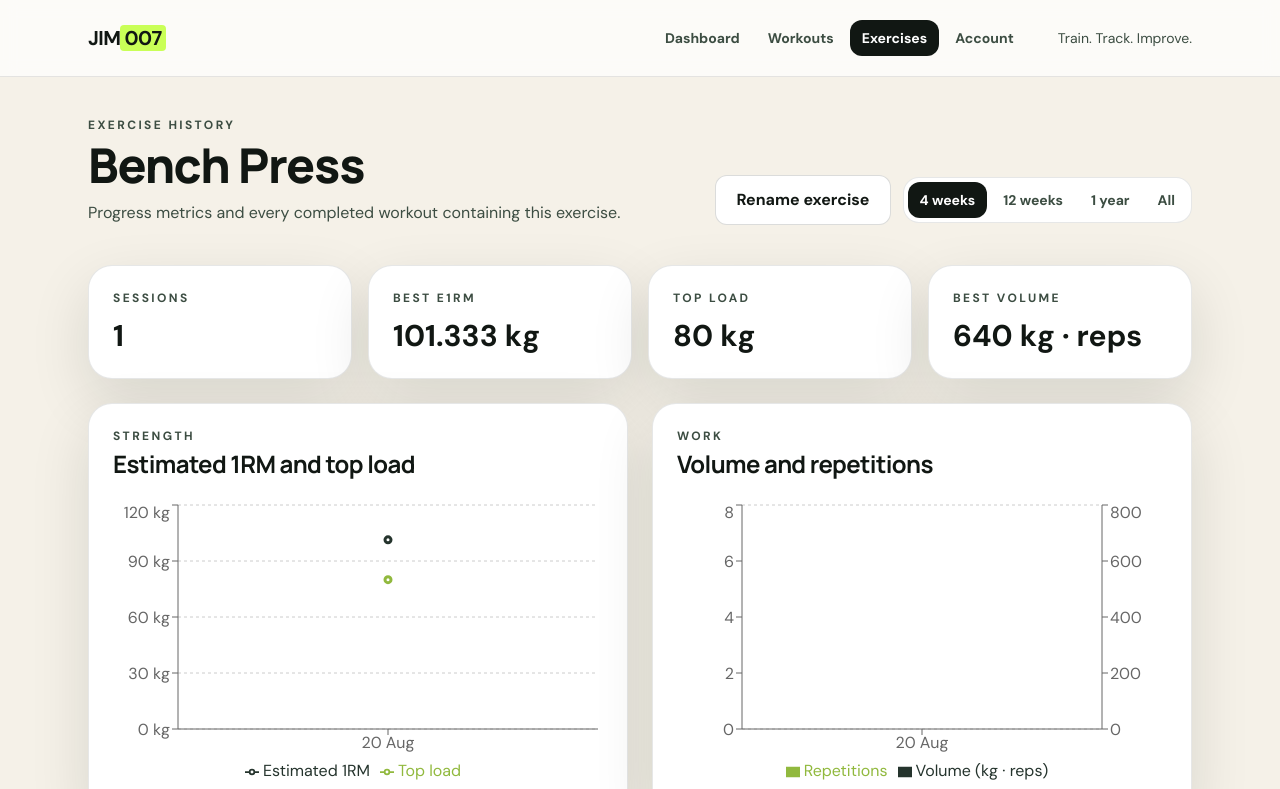
Test case: authentication and optional integrations › keeps the rename form actionable when the new name conflicts
Click the button "Rename exercise" at [803, 200], box [716, 175, 890, 225]
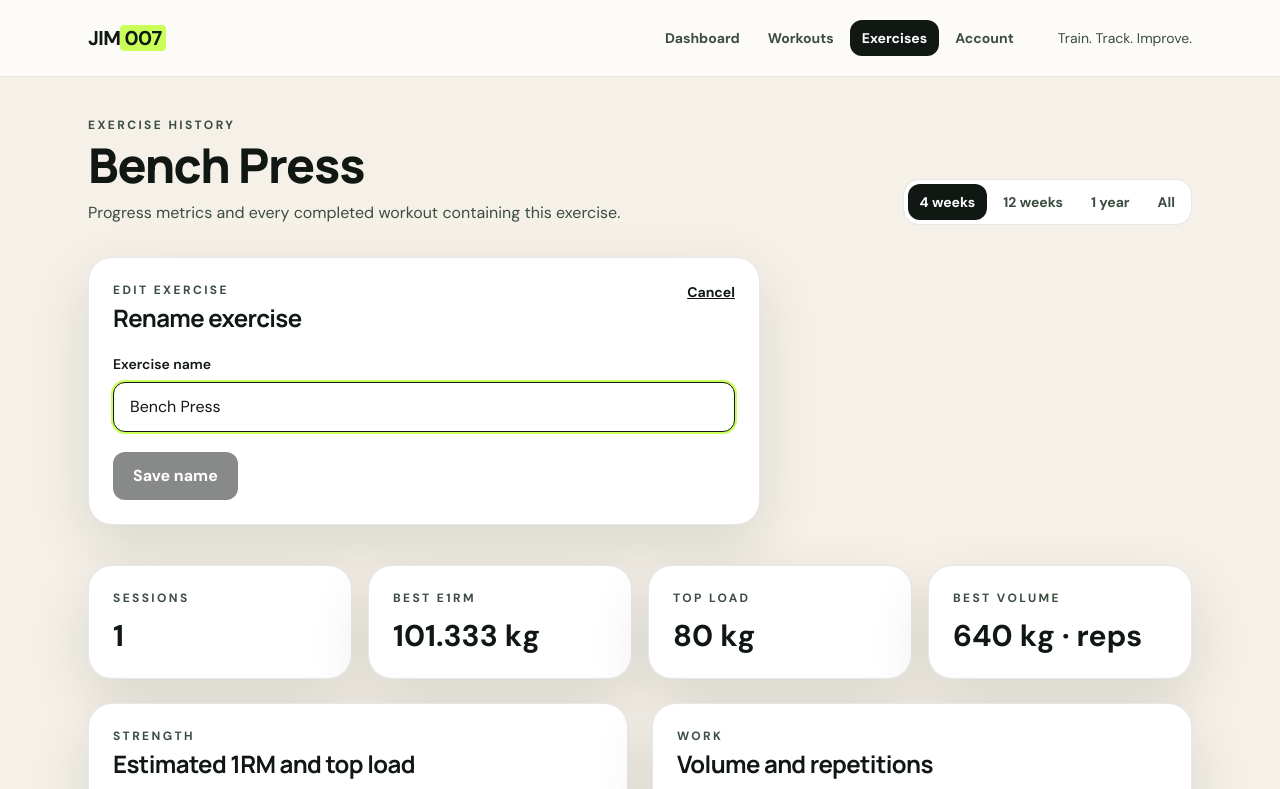
Replace the text in the field labelled "Exercise name" with "Squat" at [424, 407], box [113, 382, 735, 432]
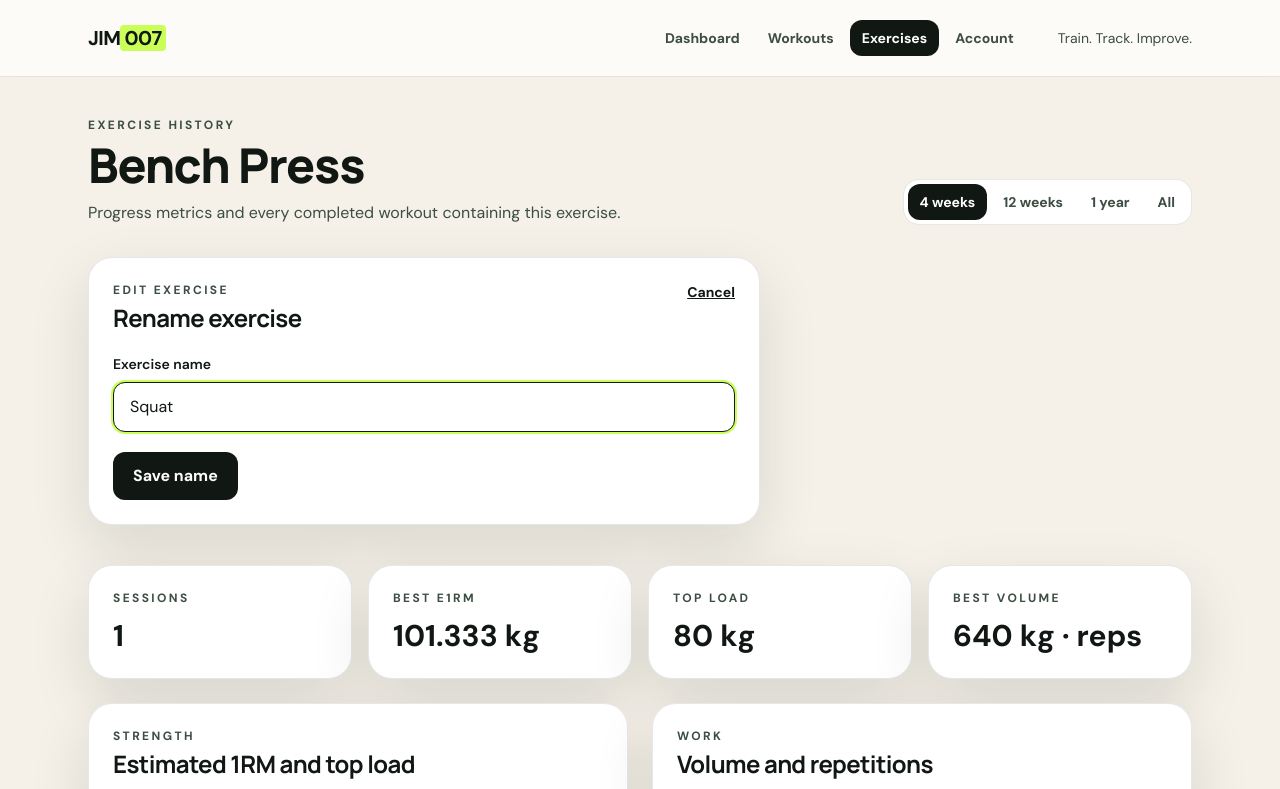
Click the button "Save name" at [175, 476], box [113, 452, 238, 500]
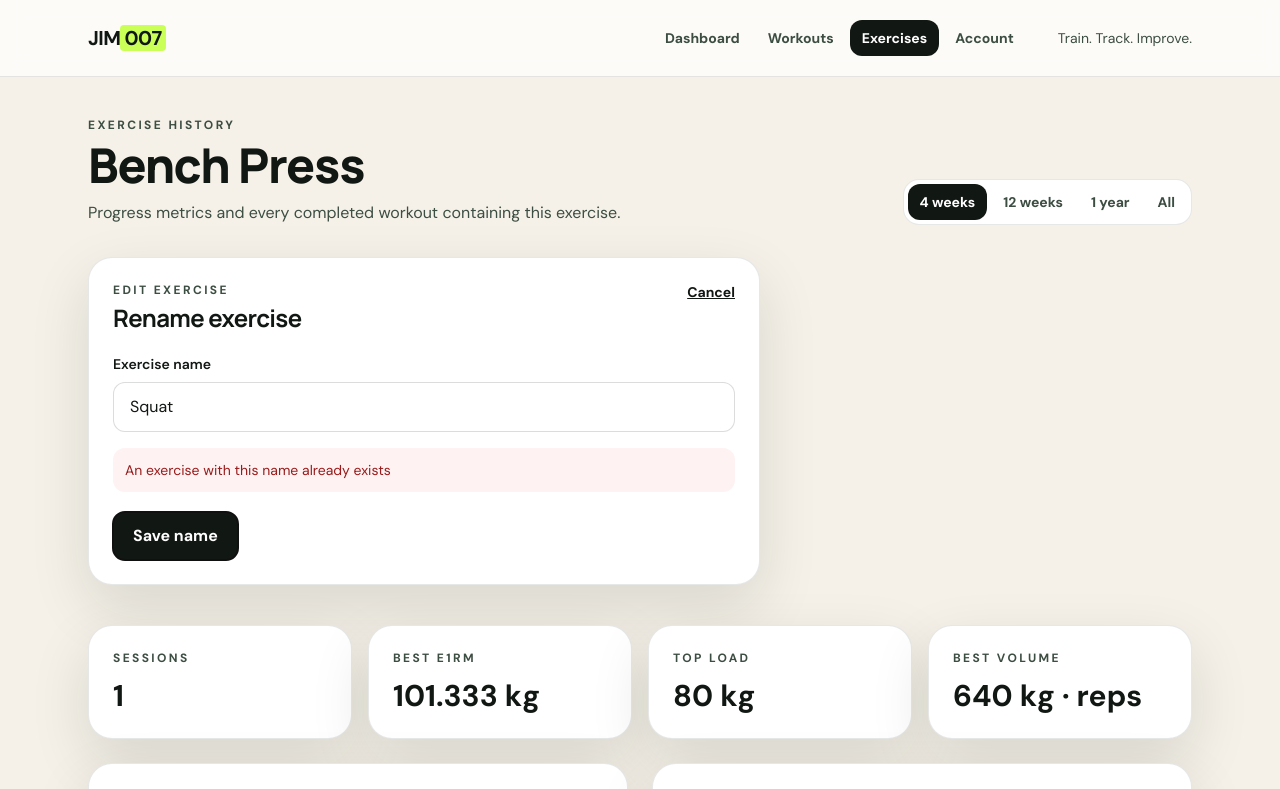
Expected: the message reads "An exercise with this name already exists", [125, 461, 391, 479]
